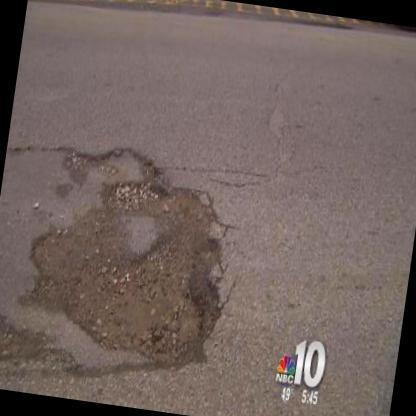pothole: (18, 140, 228, 371)
